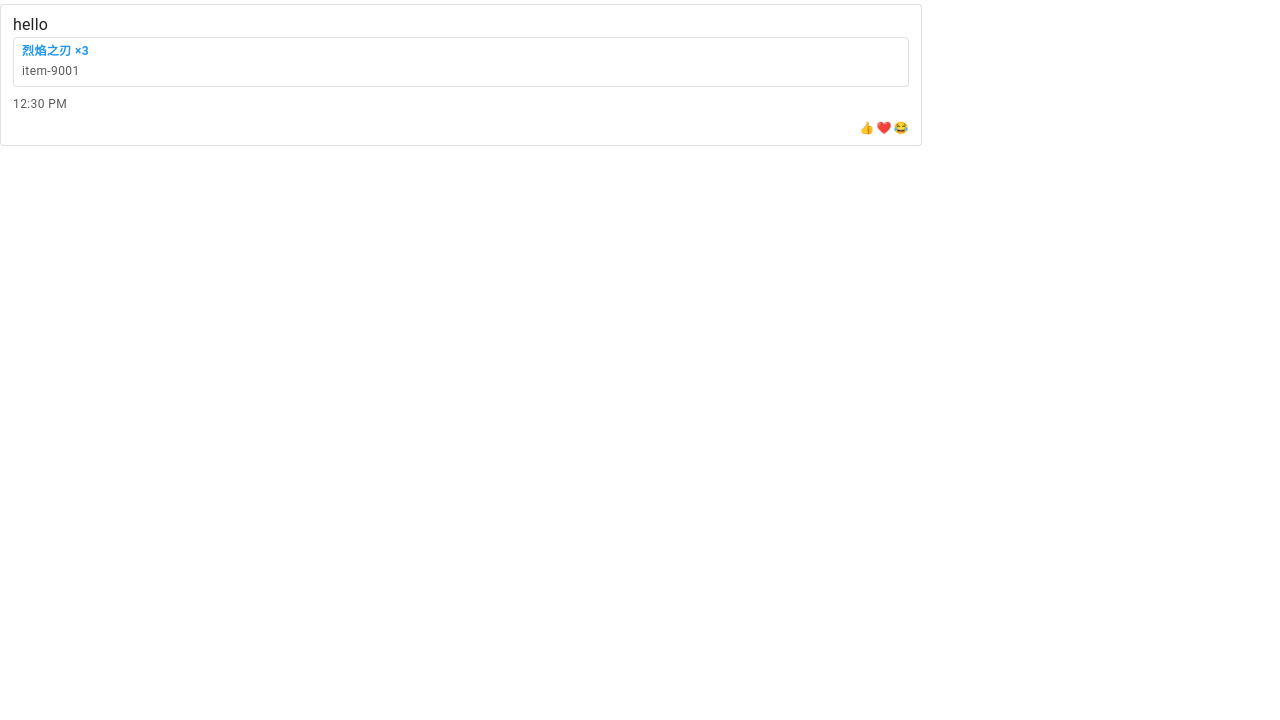
Test: MessageBubble › opens the item detail dialog with count and attrs on click
This screenshot has width=1280, height=720.
Click the button with test id "item-m1" at (47, 51), box [13,37,909,87]
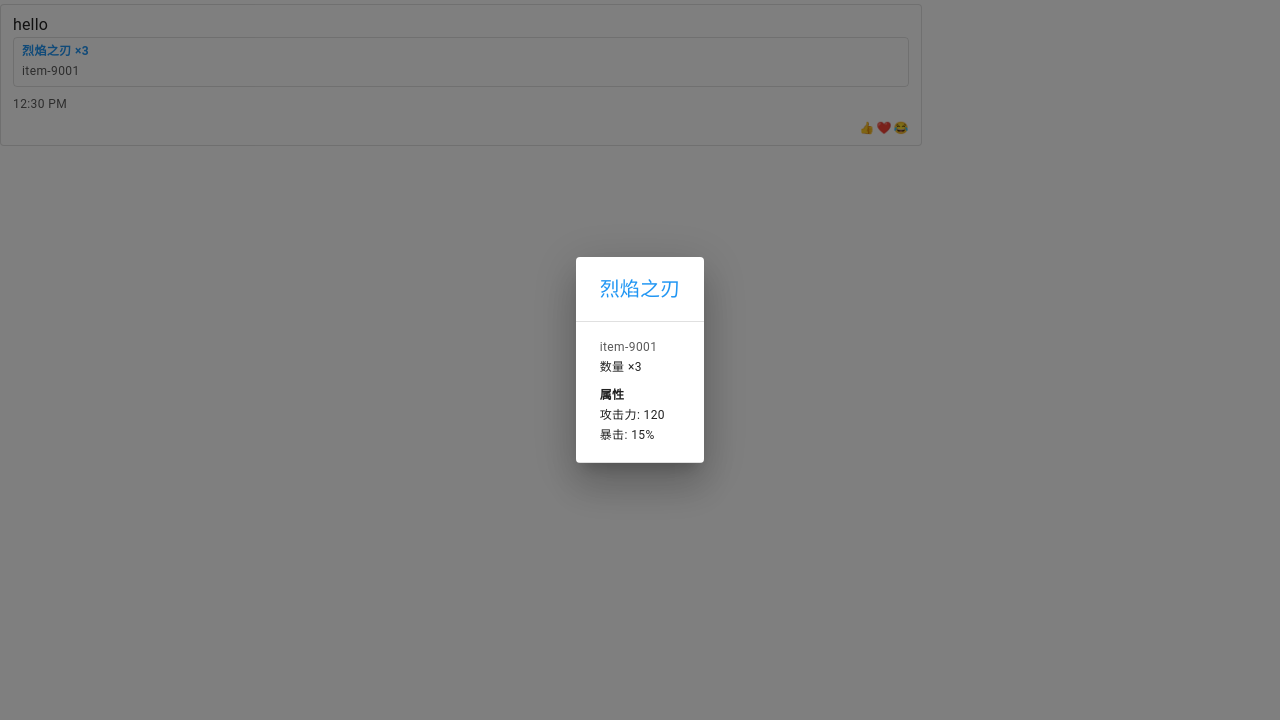
Check: the dialog shows "烈焰之刃", box [600,277,680,301]
Check: the dialog shows "数量", box [600,360,624,374]
Check: the dialog shows "×3", box [576,257,704,463]
